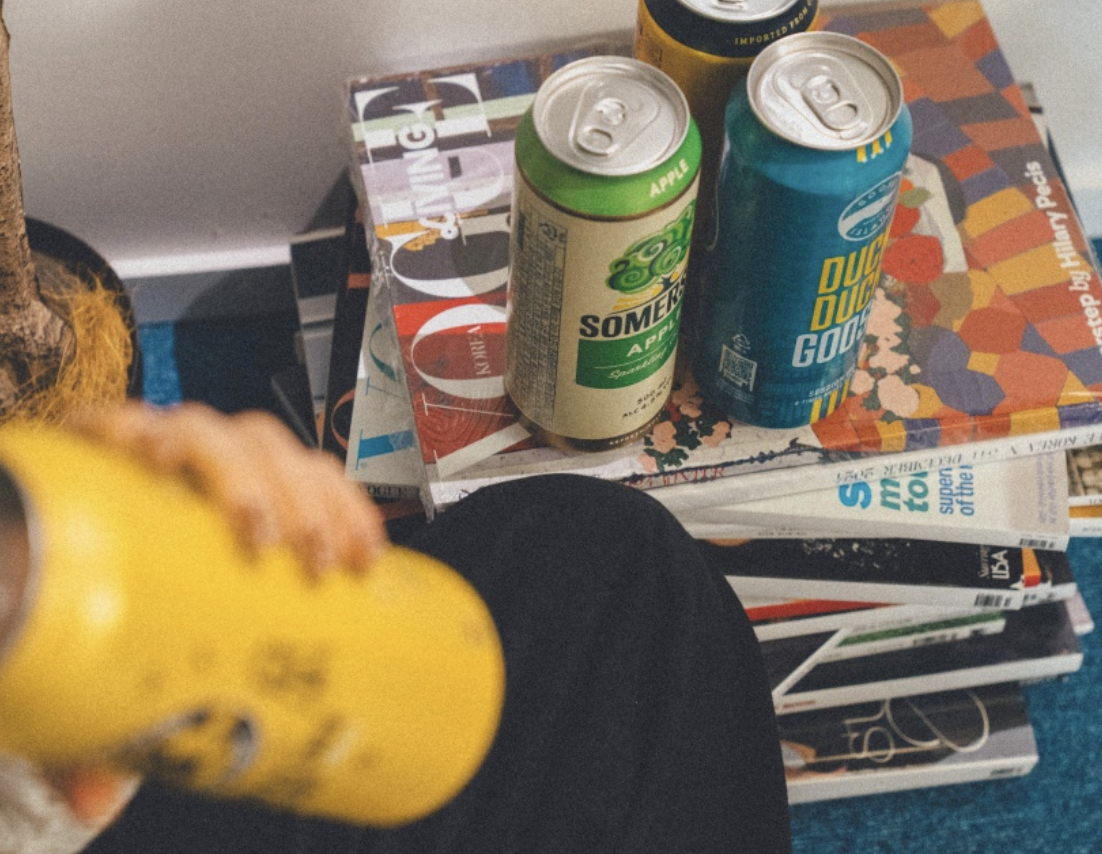beer-can: (0, 418, 503, 828), (690, 29, 912, 429), (503, 56, 701, 453), (631, 0, 821, 299)
